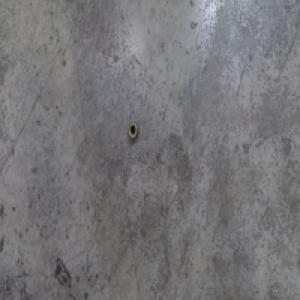Nut: (127, 120, 138, 141)
